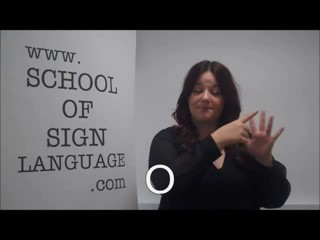O: (215, 105, 290, 161)
